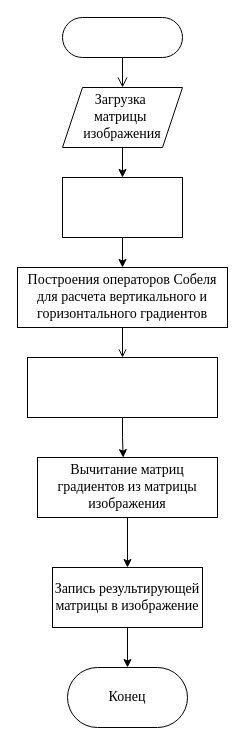
Some shapes in this 245 by 745 pixel diagram are drawn without their labels. The shapes that lost their labels are listed below. From the top down, each one's centre as x and y in pixels, then its label:
At (x=122, y=37): "Начало".
At (x=122, y=207): "Конвертация изображения в черно-белое".
At (x=122, y=387): "Нахождение горизонтального и вертикального градиентов путем свертки".
